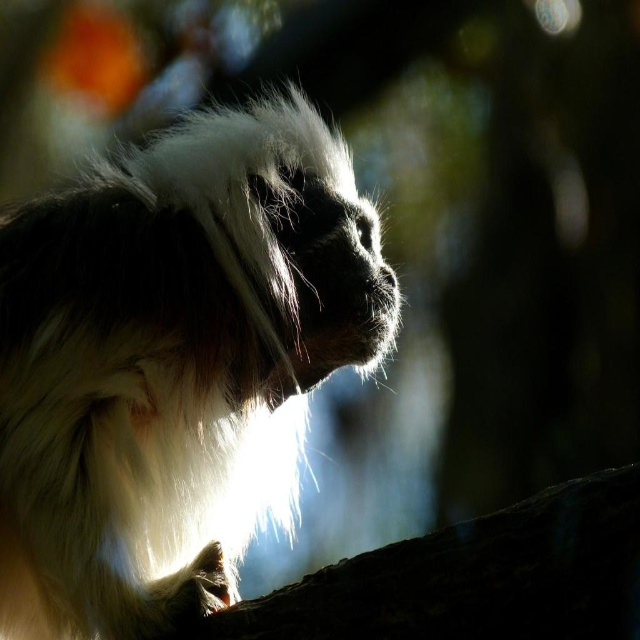Monkey: (0, 97, 402, 640)
